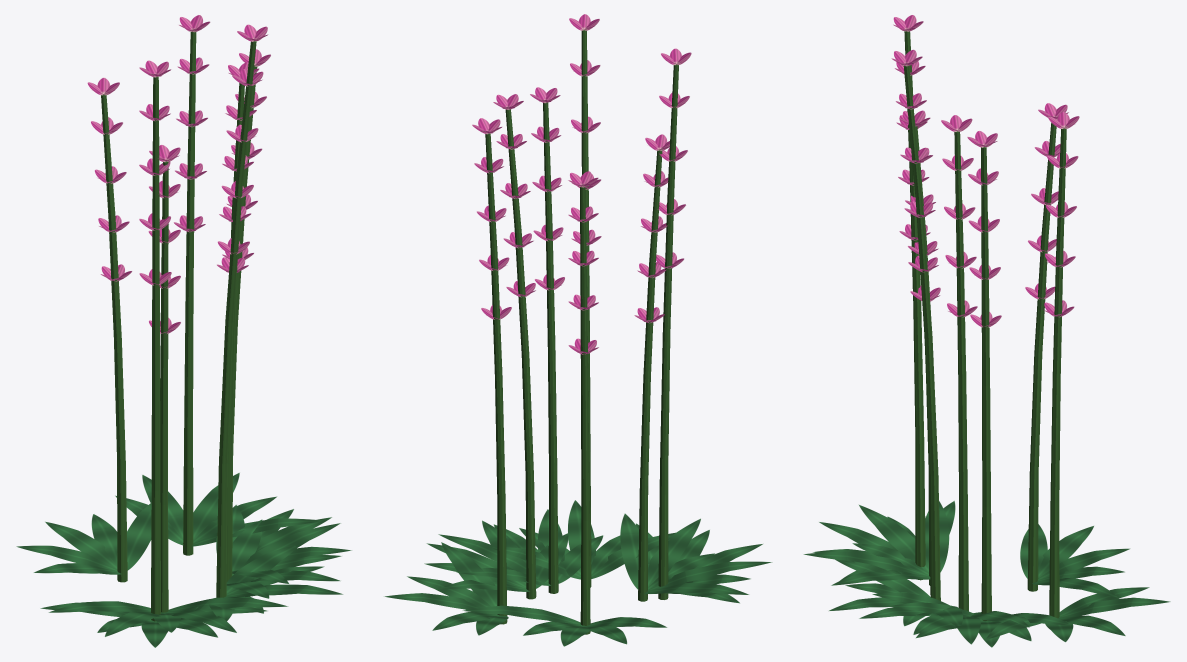
The model's file is lupine_v02.glb.
3 views of the same model, side by side, from view 1: azimuth 30°, elevation 25°; view 2: azimuth 150°, elevation 25°; view 3: azimuth 270°, elevation 25° (orthographic). The views are drawn at different scales.
Visible parts, largest first — view 1: lupine_v02; view 2: lupine_v02; view 3: lupine_v02.
Boxes of the visible parts, x1,y1,x2,y2 form: lupine_v02: (16,15,351,647); lupine_v02: (384,14,772,646); lupine_v02: (803,15,1170,647).
Bounding box in the file's own units: 0.4401 × 0.7729 × 0.4595.
Materials: 3 (3 with a texture image).
